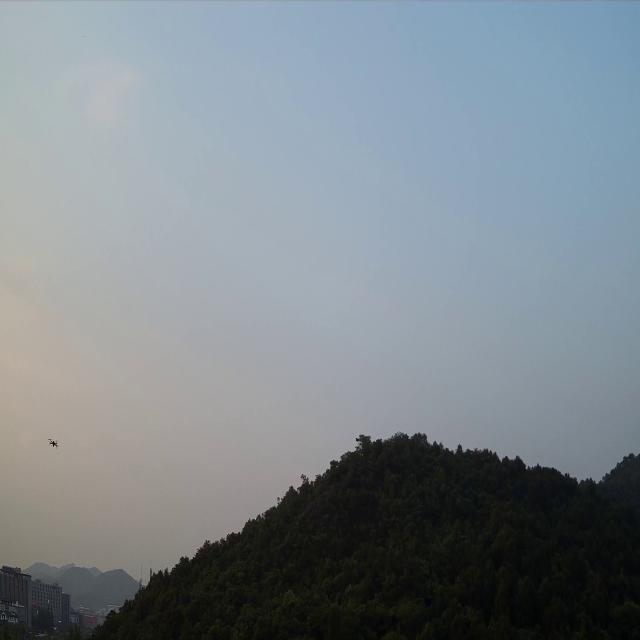UAV: (48, 438, 58, 449)
